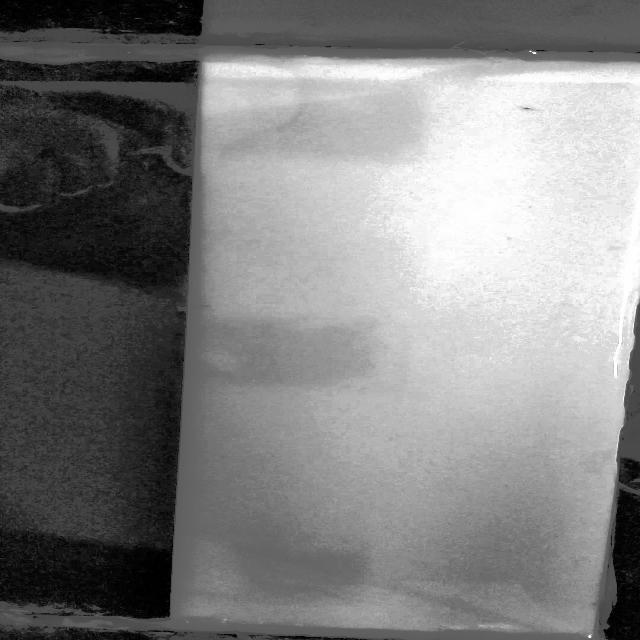shrimp: (512, 103, 540, 115)
